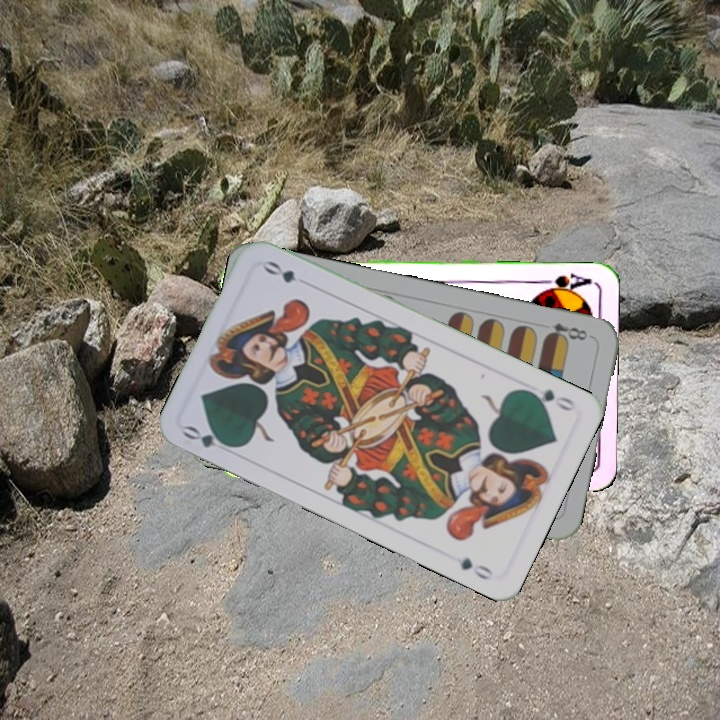E8: (541, 318, 594, 345)
GO: (179, 421, 238, 451), (521, 385, 578, 414)
SA: (534, 269, 593, 296)
